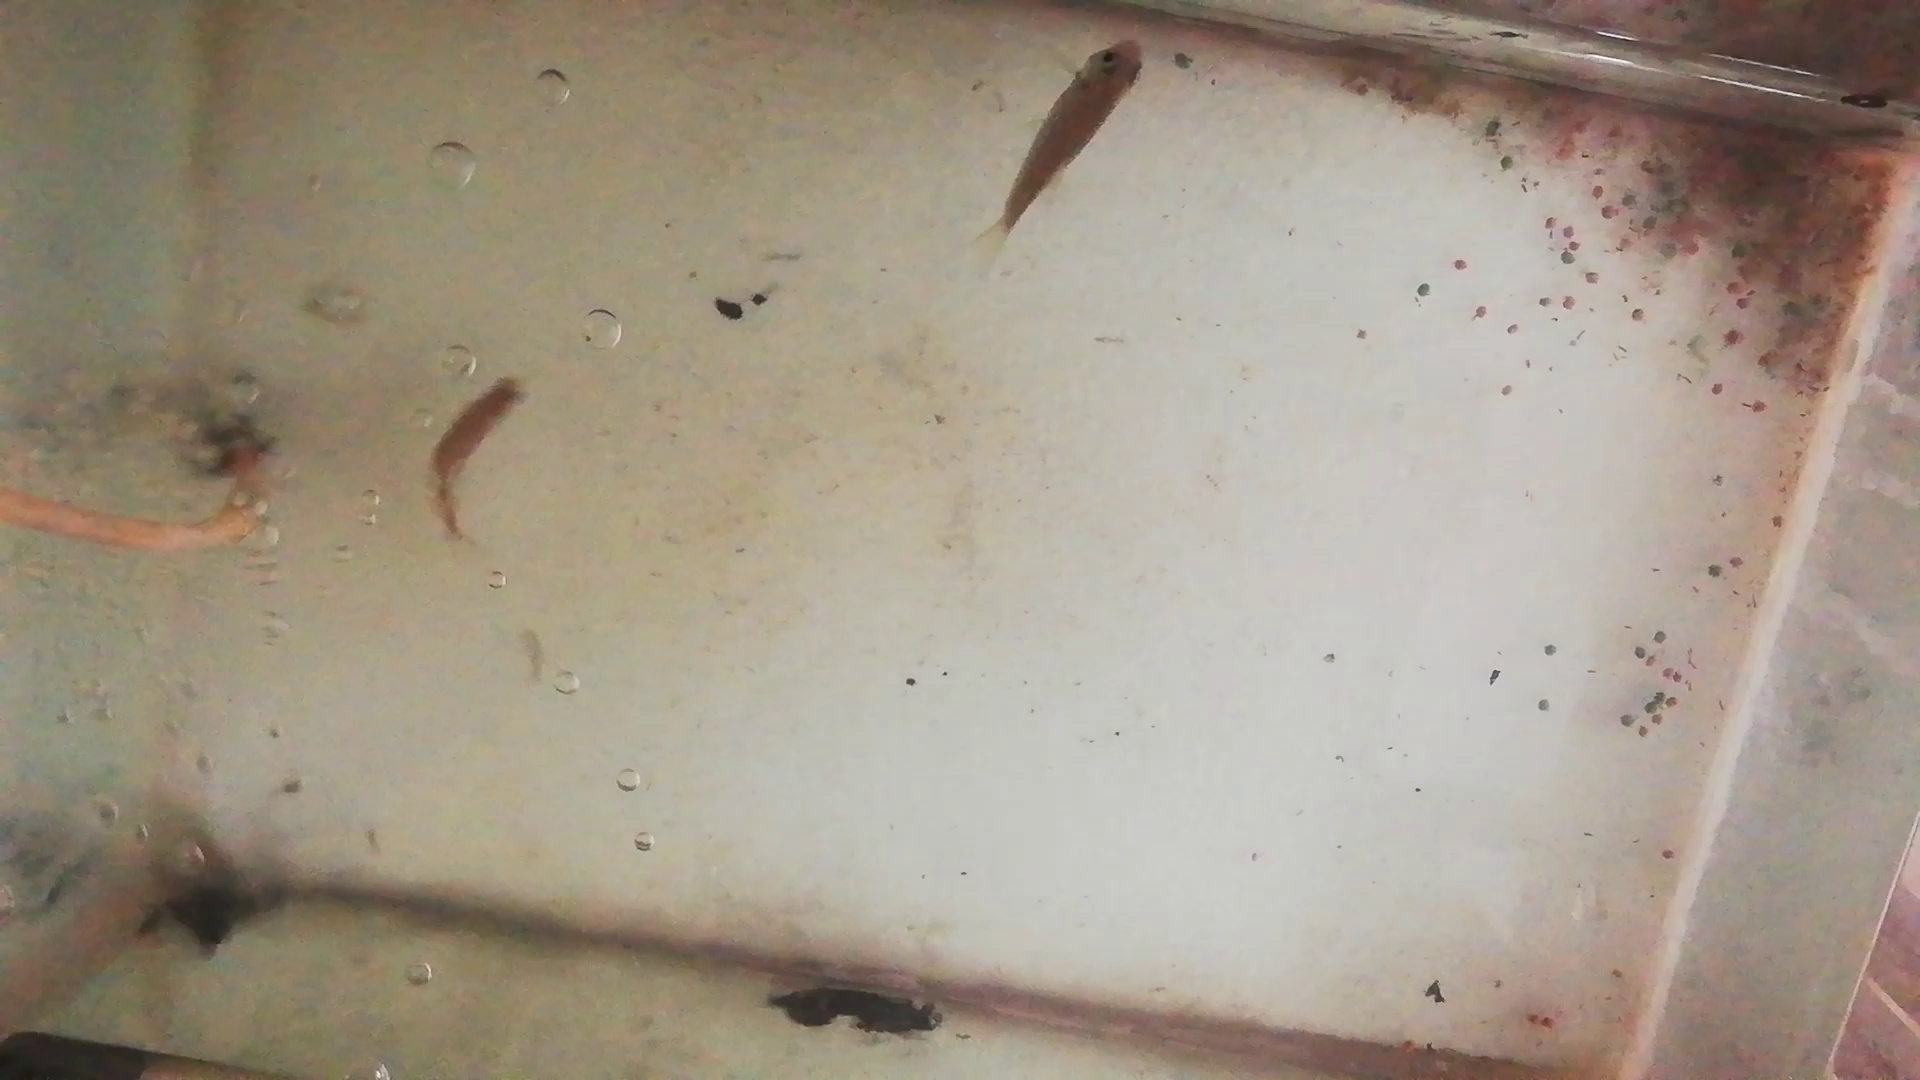fish: (1004, 40, 1149, 233), (427, 378, 535, 538)
